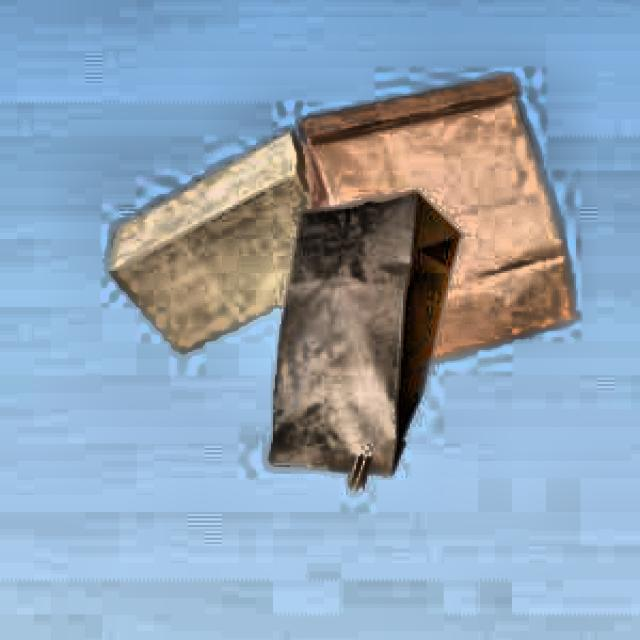Paper-bag: (276, 63, 584, 380), (268, 183, 472, 494), (109, 117, 326, 364)
